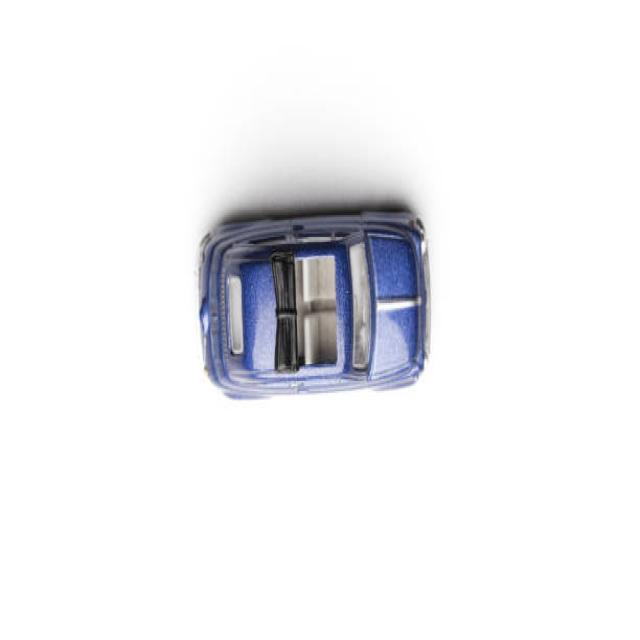Car: (195, 210, 431, 403)
